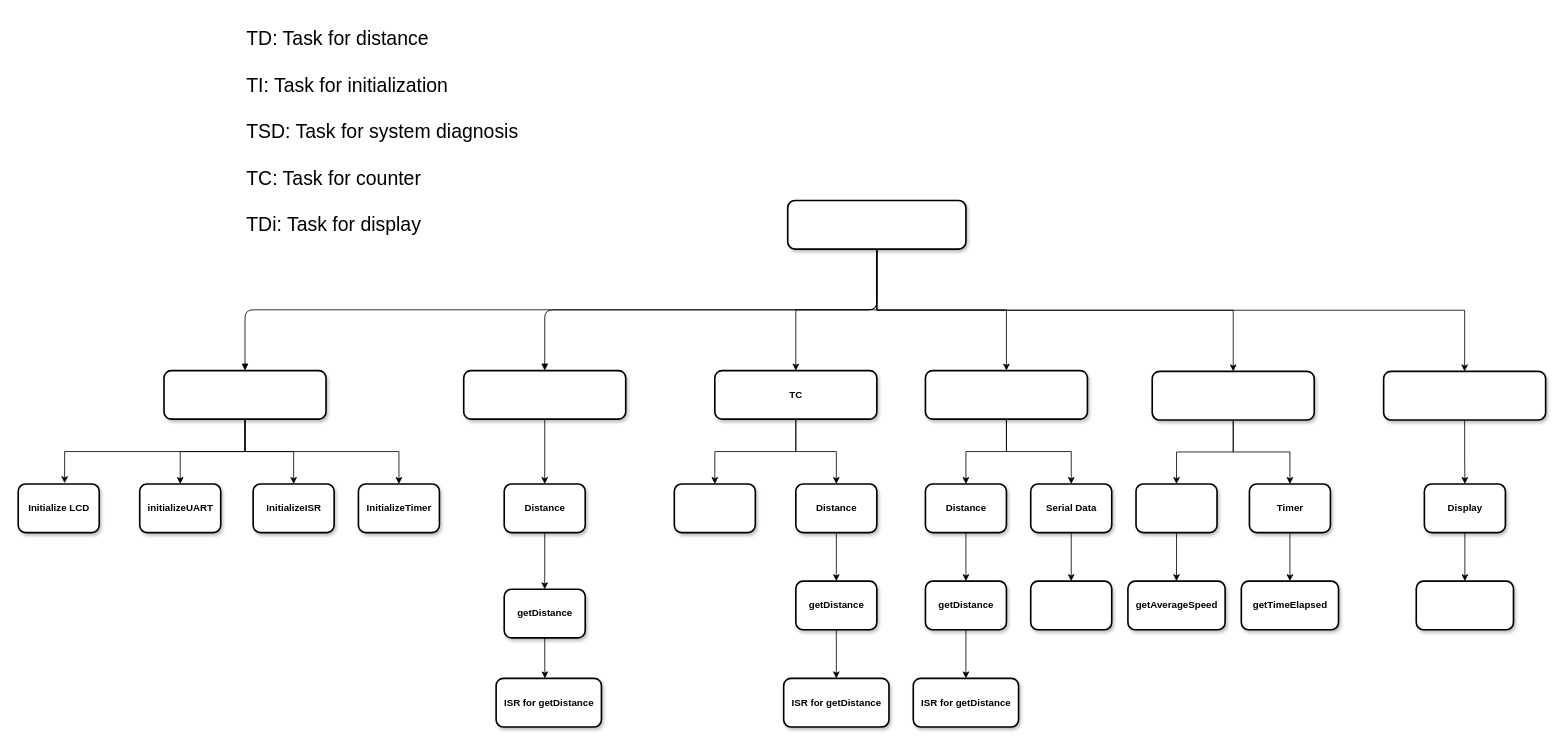
The diagram is 1565 pixels wide and 747 high, and some of its shapes have lost their labels. The shapes that lost their labels are listed below. From the top down, each one's centre as x and y in pixels, then its label:
point (877, 225): Lap Counter
point (245, 395): TI
point (545, 395): TD
point (1007, 395): TSD
point (1233, 396): TS
point (1465, 396): TDi
point (715, 509): Lap Count
point (1177, 509): Speed
point (1071, 606): sendDataToPC
point (1465, 606): displayCount
